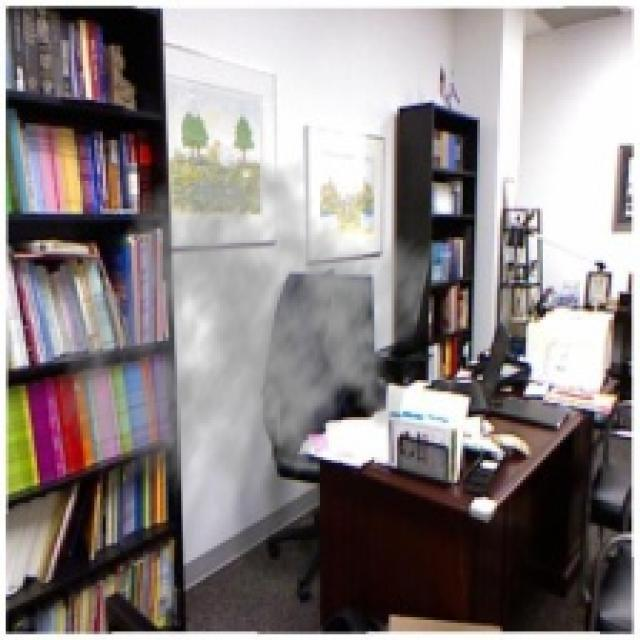Smoke: (54, 140, 434, 534)
